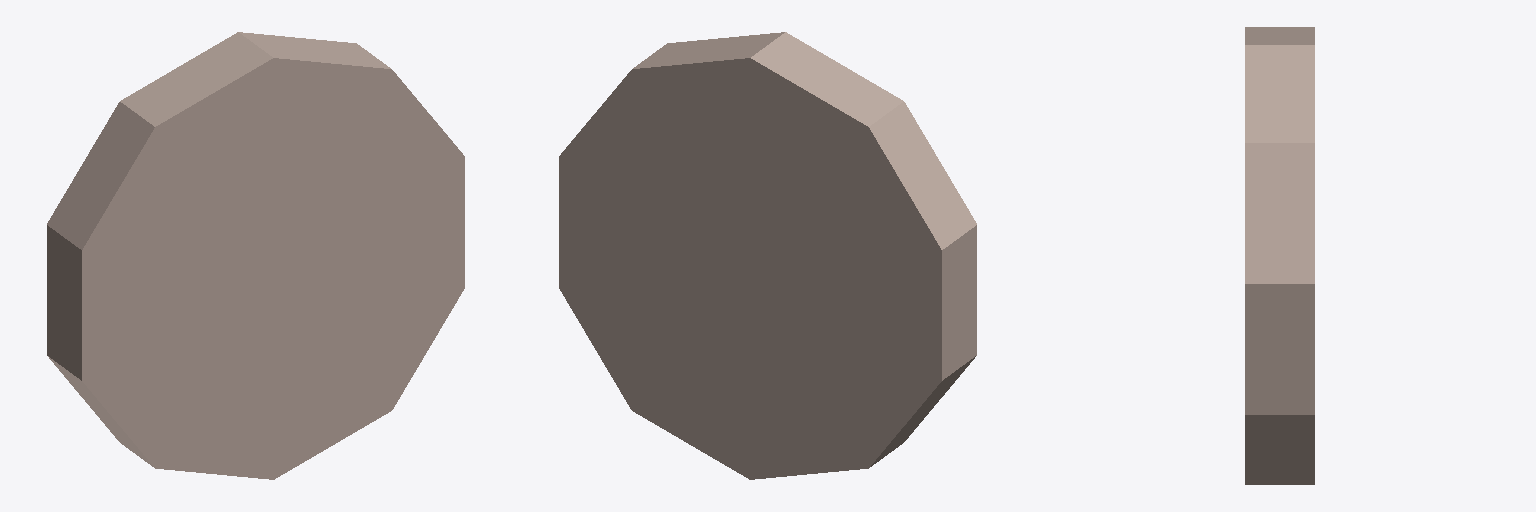
The picture shows the model from 3 angles: view 1: azimuth 30°, elevation 25°; view 2: azimuth 150°, elevation 25°; view 3: azimuth 270°, elevation 25°; orthographic projection.
Parts seen in each view (by area): view 1: Cylinder.001; view 2: Cylinder.001; view 3: Cylinder.001.
Boxes of the visible parts, box(x1,y1,x2,y2) form: Cylinder.001: box(47, 32, 464, 479); Cylinder.001: box(559, 32, 976, 479); Cylinder.001: box(1245, 27, 1314, 484).
Size of the model in its own units: 0.1626 by 0.171 by 0.026.
1 materials, 1 textured.